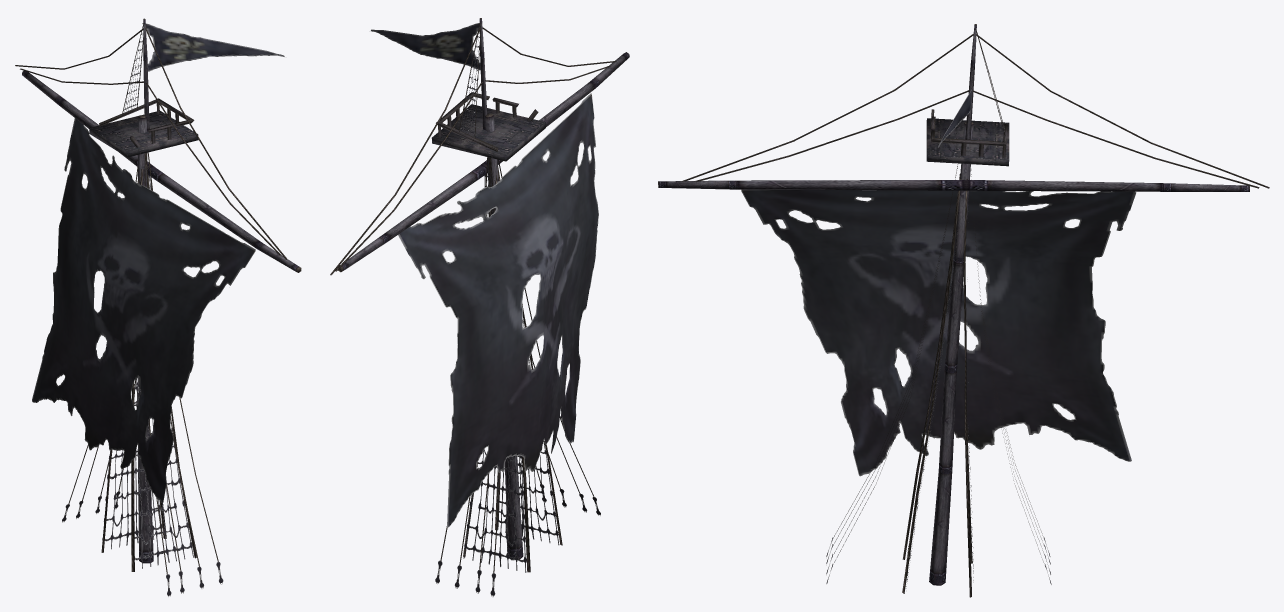
File: Battle05_Ship_04.FBX
3 views of the same model, side by side, from view 1: azimuth 30°, elevation 25°; view 2: azimuth 150°, elevation 25°; view 3: azimuth 270°, elevation 25° (orthographic). The views are drawn at different scales.
Visible parts, largest first — view 1: Battle05_Ship_04_01, Battle05_Ship_04_02; view 2: Battle05_Ship_04_01, Battle05_Ship_04_02; view 3: Battle05_Ship_04_01, Battle05_Ship_04_02.
Part boxes in pixels (x1,y1,x2,y2): Battle05_Ship_04_01: (32, 23, 284, 596); Battle05_Ship_04_02: (15, 18, 301, 574); Battle05_Ship_04_01: (371, 23, 600, 596); Battle05_Ship_04_02: (330, 18, 629, 573); Battle05_Ship_04_01: (741, 35, 1136, 588); Battle05_Ship_04_02: (658, 24, 1269, 597).
Size of the model in its own units: 41.67 by 115 by 111.
